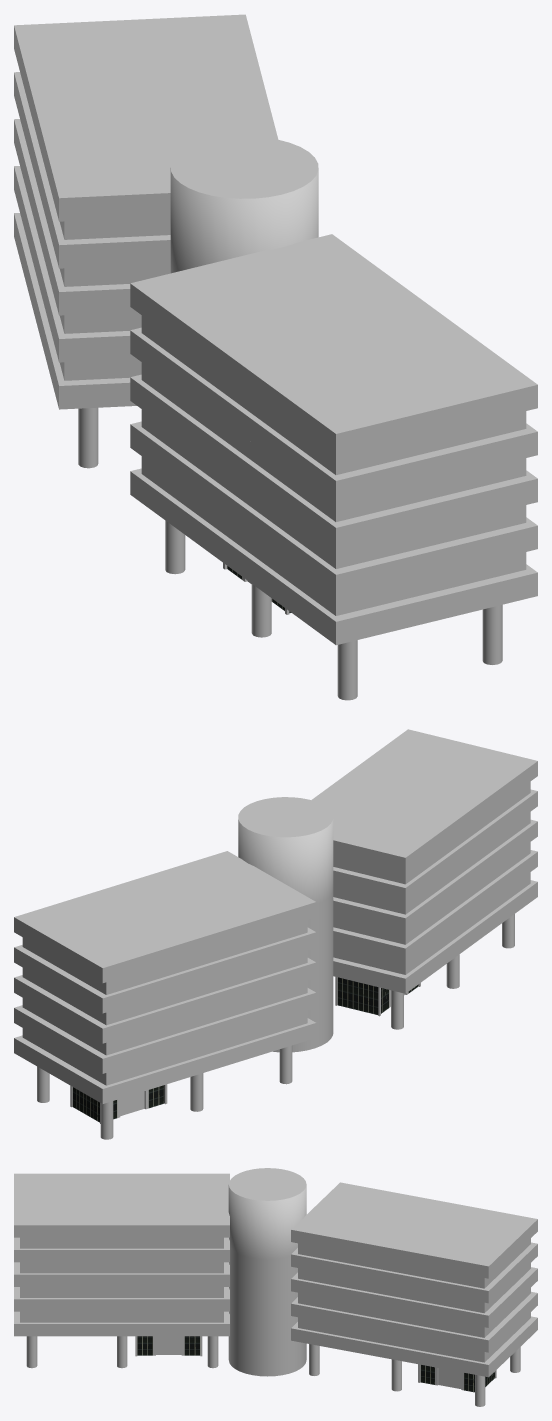
The picture shows the model from 3 angles, top to bottom: view 1: azimuth 30°, elevation 25°; view 2: azimuth 150°, elevation 25°; view 3: azimuth 270°, elevation 25°; orthographic projection. The views are drawn at different scales.
Visible parts, largest first — view 1: BC-035; view 2: BC-035; view 3: BC-035.
Part boxes in pixels (bbox=[...]): BC-035: bbox=[14, 14, 537, 700]; BC-035: bbox=[14, 729, 537, 1139]; BC-035: bbox=[14, 1168, 537, 1406].
Size of what is drawn, in the model's own units: 21.52 by 19 by 51.39.
